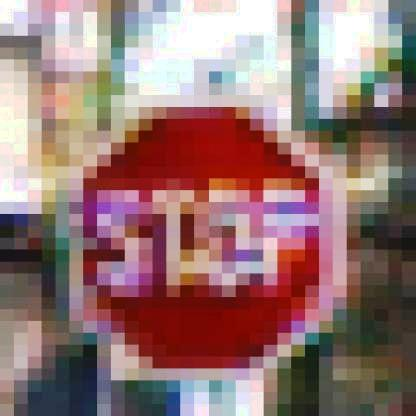Stop Sign: (62, 90, 350, 374)
